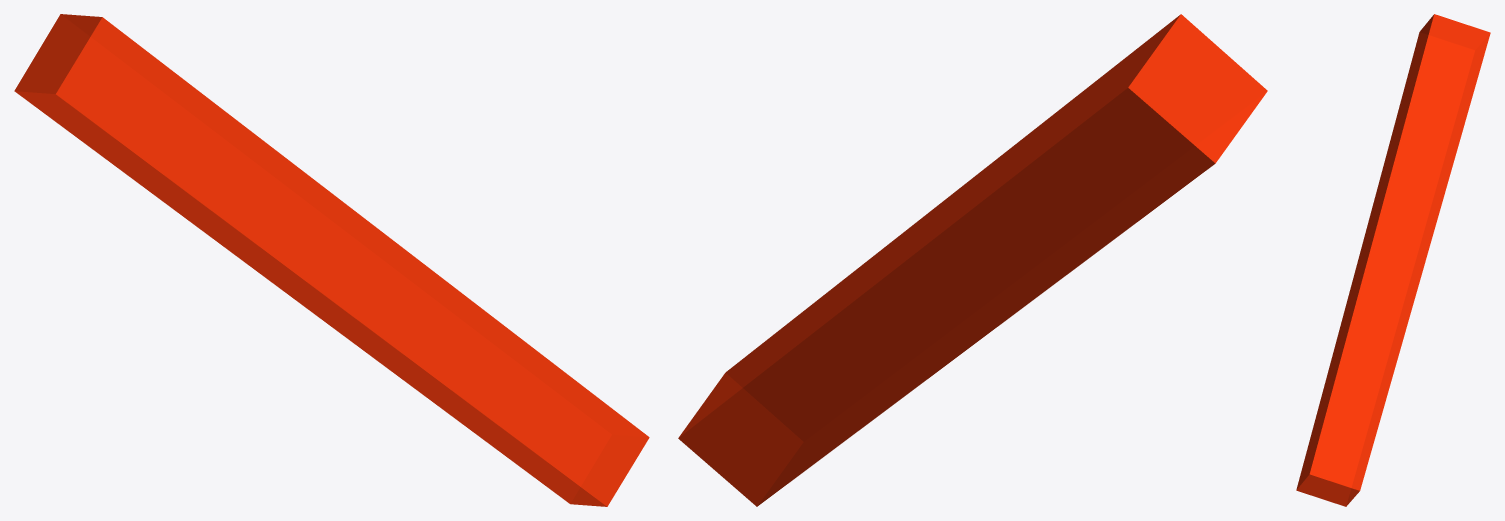
Rendered from Event_420094457_EBrechit_11.fbx.
3 renders of one model, left to right at view 1: azimuth 30°, elevation 25°; view 2: azimuth 150°, elevation 25°; view 3: azimuth 270°, elevation 25°, orthographic. The views are drawn at different scales.
Visible parts, largest first — view 1: Model; view 2: Model; view 3: Model.
Part boxes in pixels (x1,y1,x2,y2): Model: (14,14,649,506); Model: (678,14,1267,506); Model: (1296,14,1490,506).
Size of the model in its own units: 0.414 by 0.415 by 0.2027.
